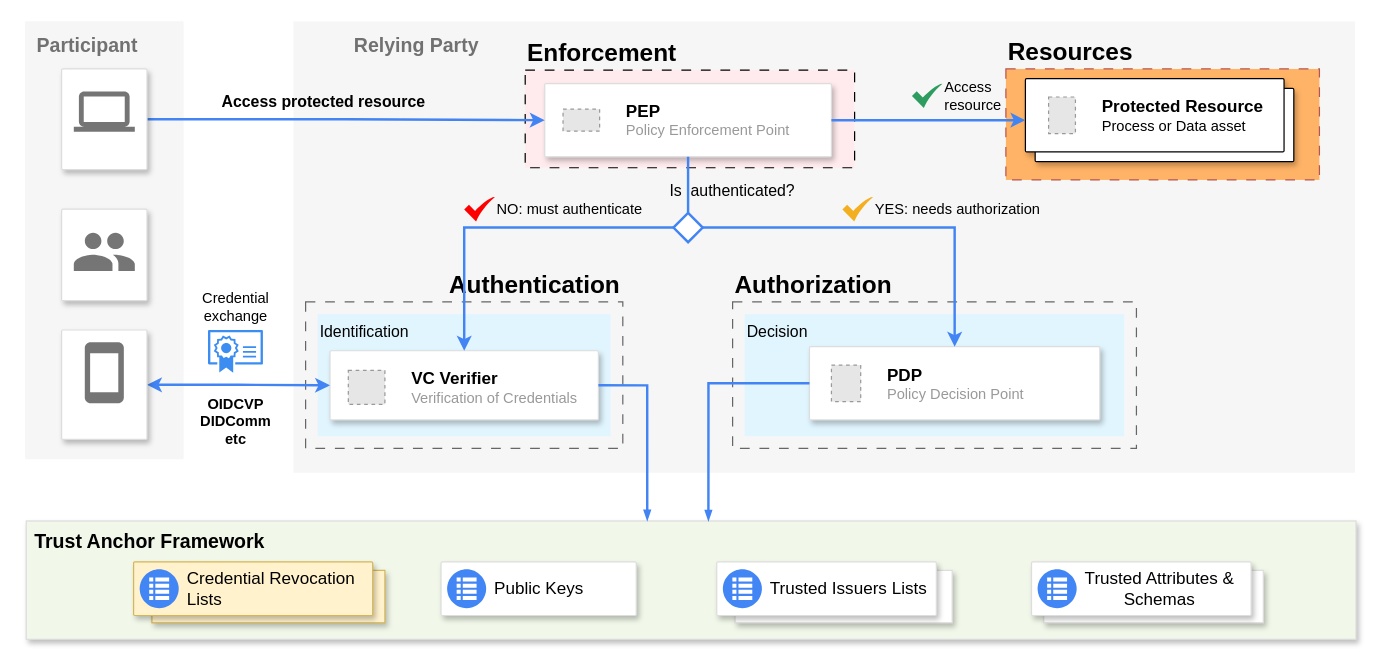
This 1385x669 diagram has some shape labels left out. Grey dashed boxes stand in for pictures. Here are the shapes that lost their labels. From the top down, the centre of each, then its label:
At (105,120): "Application".
At (105,256): "Principal".
At (105,386): "Wallet".
